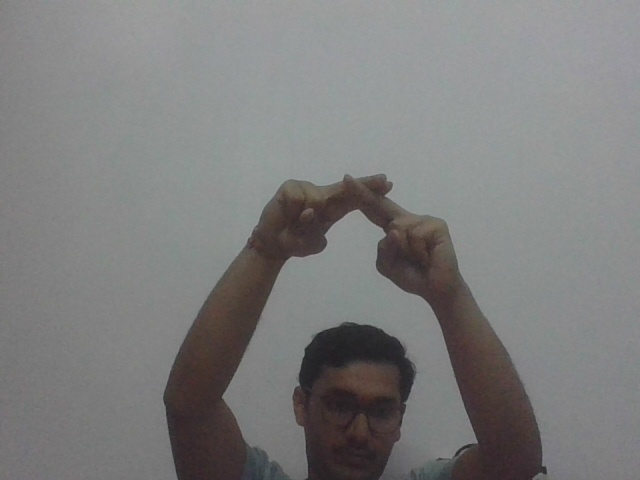F: (257, 171, 460, 295)
